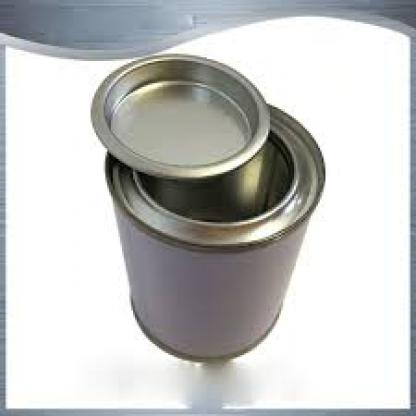METAL: (104, 96, 324, 361), (87, 52, 270, 179)
